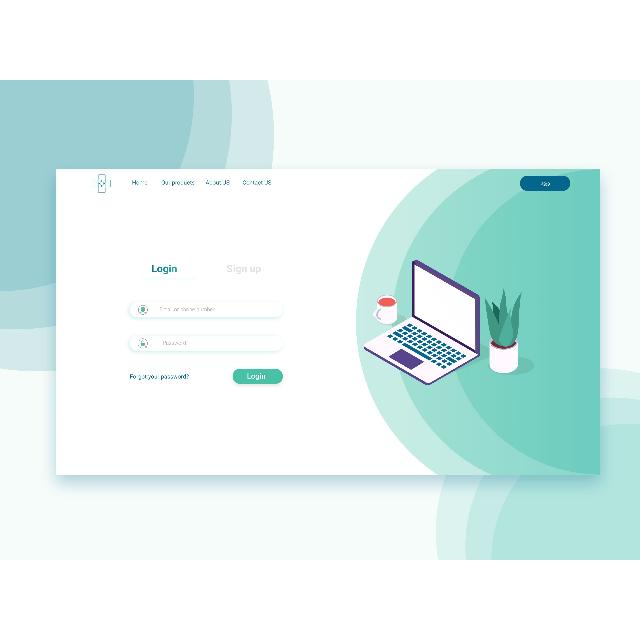QLabel: (128, 372, 190, 382), (226, 264, 260, 274), (151, 264, 177, 274), (162, 180, 194, 186), (242, 180, 272, 186), (247, 373, 266, 381), (132, 179, 148, 185), (206, 180, 230, 184), (540, 182, 550, 186)
VBtn: (232, 368, 284, 384), (520, 175, 570, 191)
VCard: (55, 168, 601, 476)
VImg: (354, 214, 544, 410), (92, 174, 110, 192)
VTabs: (124, 254, 288, 388)
VTextField: (130, 334, 282, 352), (130, 302, 282, 318)
